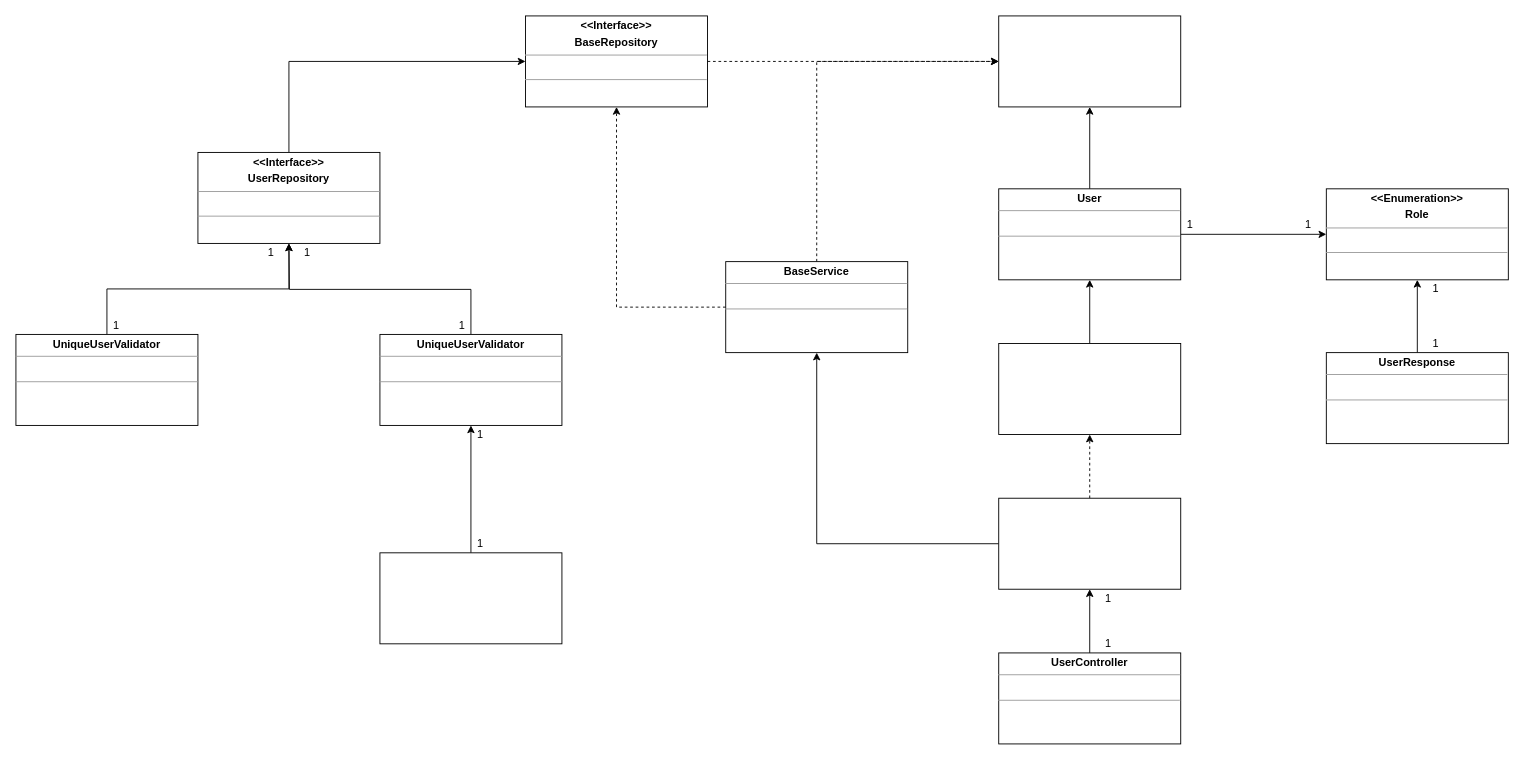
Some shapes in this 1524 by 760 pixel diagram are drawn without their labels. The shapes that lost their labels are listed below. From the top down, each one's centre as x and y in pixels, then its label:
At pixel 1089 61: "<<Abstract>> Model<T>".
At pixel 1089 389: "Customer".
At pixel 1089 543: "UserService".
At pixel 470 598: "AuthenticationController".
